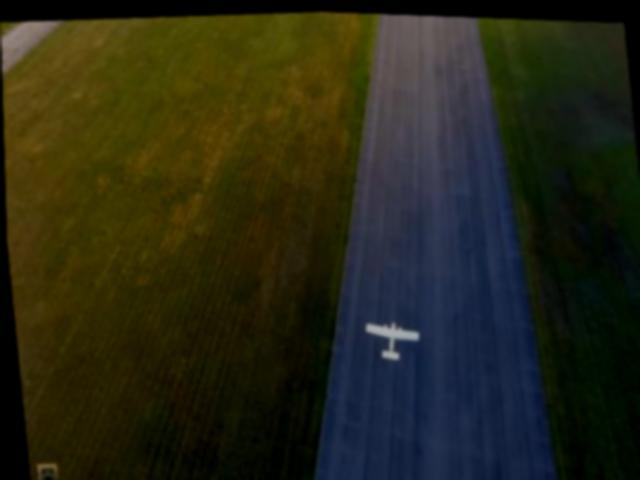uav: (361, 314, 421, 361)
